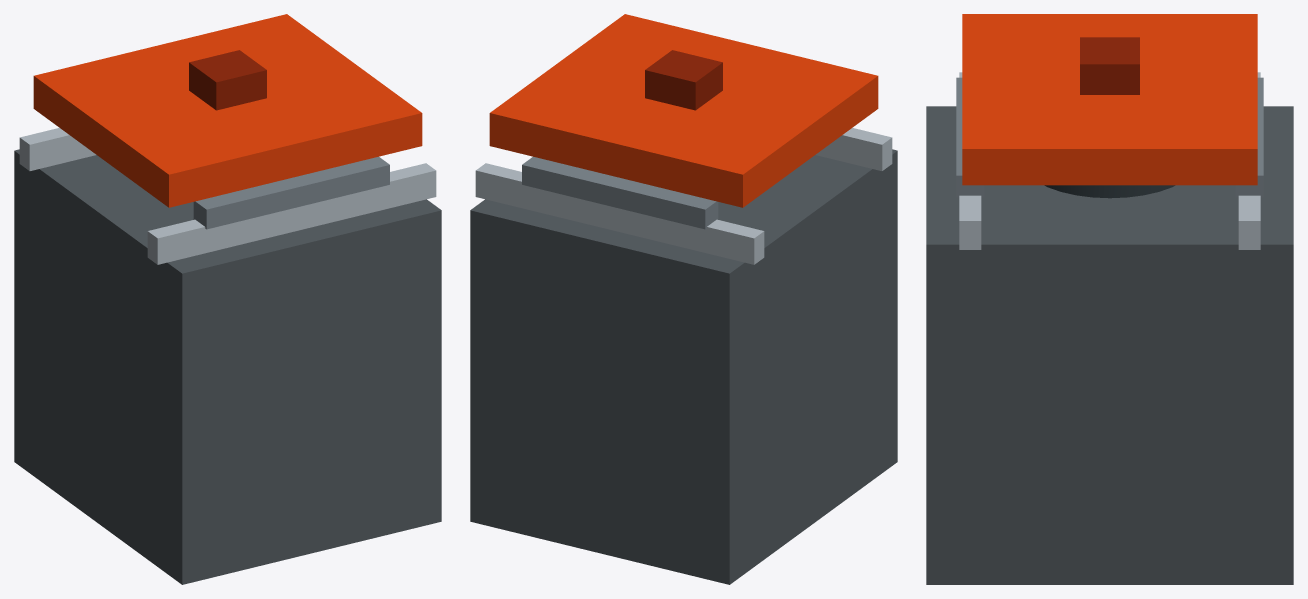
The model's file is bearing_loading_fixture.dae.
3 renders of one model, left to right at view 1: azimuth 30°, elevation 25°; view 2: azimuth 150°, elevation 25°; view 3: azimuth 270°, elevation 25°, orthographic. The views are drawn at different scales.
Visible parts, largest first — view 1: bearing_loading_fixture; view 2: bearing_loading_fixture; view 3: bearing_loading_fixture.
Part boxes in pixels (x1=…): bearing_loading_fixture: x1=14, y1=14, x2=441, y2=584; bearing_loading_fixture: x1=470, y1=14, x2=897, y2=584; bearing_loading_fixture: x1=926, y1=14, x2=1293, y2=584.
Bounding box in the file's own units: 0.88 × 0.92 × 1.28.
